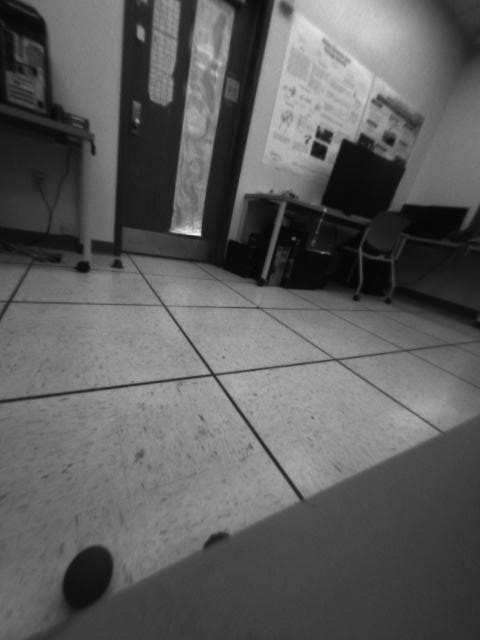dogtoy: (53, 530, 117, 616)
